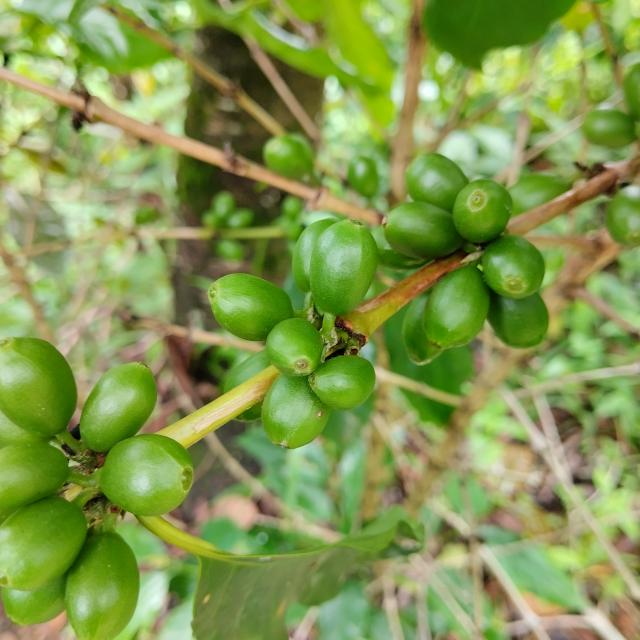green: (0, 497, 86, 592), (64, 532, 139, 640), (100, 435, 193, 517), (0, 338, 76, 437), (79, 362, 156, 452), (310, 219, 378, 316), (207, 273, 294, 341), (423, 265, 490, 349), (261, 373, 331, 449), (384, 201, 464, 259), (0, 443, 68, 511), (482, 234, 545, 299), (453, 179, 513, 243), (406, 153, 469, 212), (309, 356, 375, 411), (488, 291, 550, 348), (292, 218, 338, 293), (1, 574, 66, 627), (266, 318, 323, 377), (402, 291, 443, 366), (371, 225, 429, 269), (223, 349, 271, 393), (0, 411, 49, 449), (236, 402, 262, 422)
